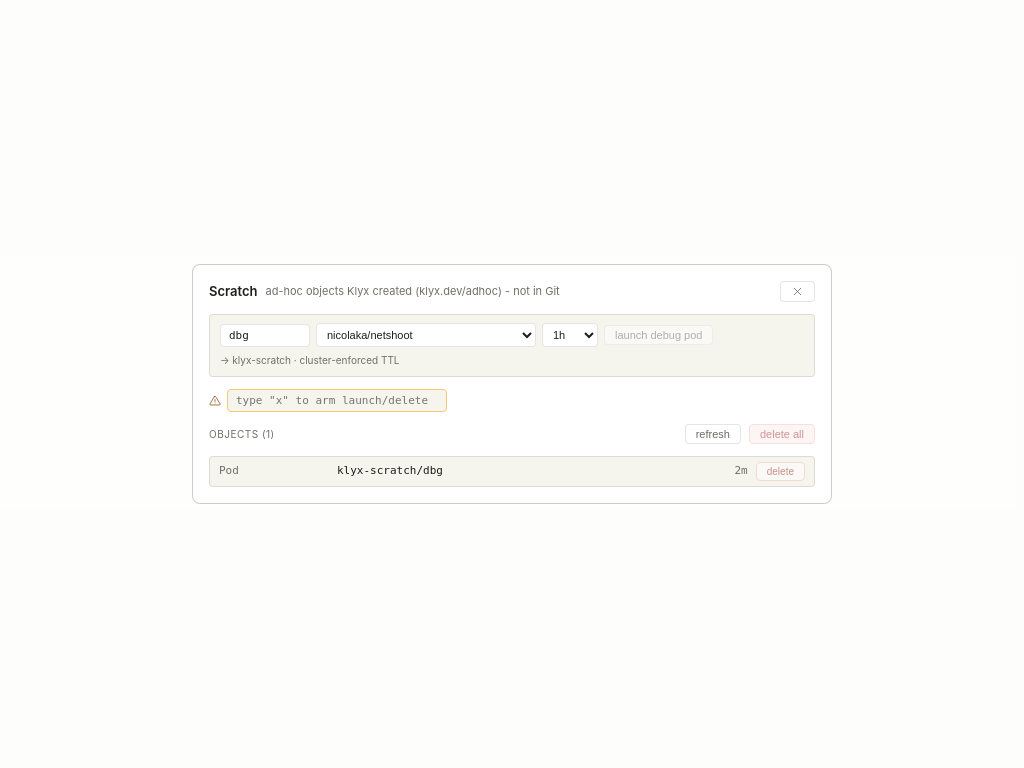
Test case: ScratchPanel › protected cluster keeps launch and deletes locked until the typed name arms
The width and height of the screenshot is (1024, 768).
Expected: the text "klyx-scratch/dbg" is shown, [337, 463, 443, 480]
Expected: the button "launch debug pod" is disabled, [604, 325, 714, 345]
Type "x" into the field with placeholder "type \"x\" to arm launch/delete" at point(337, 400), box [227, 389, 447, 412]
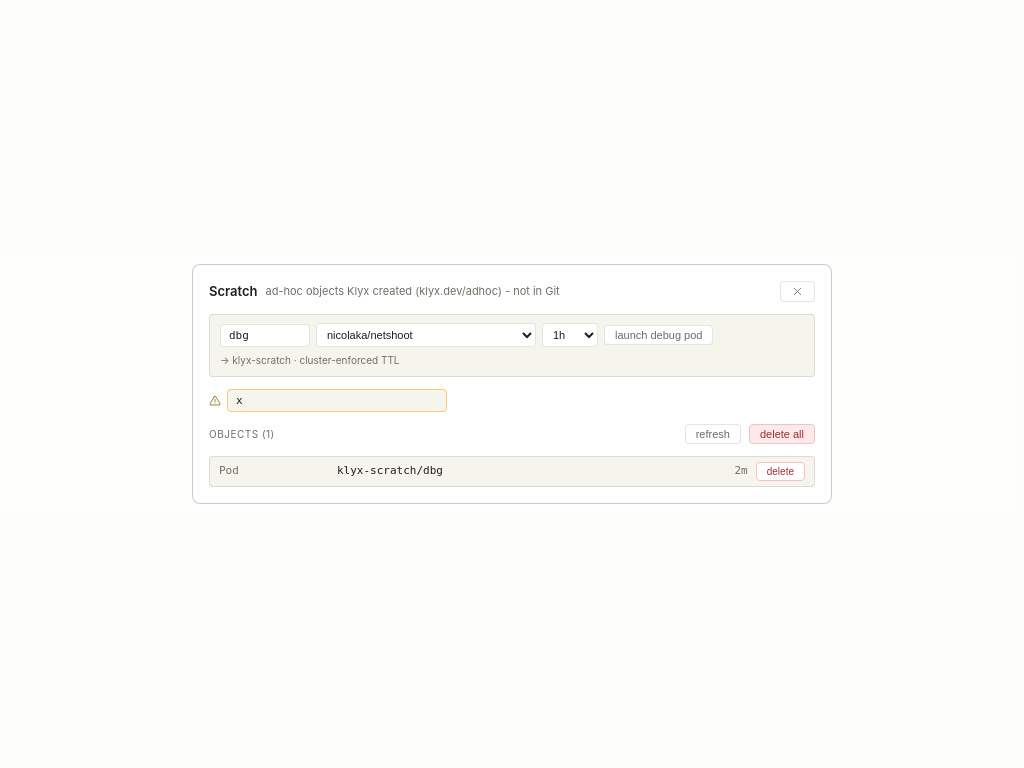
Result: the button "launch debug pod" is enabled at [604, 325, 714, 345]
Result: the button "delete" is enabled at [756, 462, 805, 481]
